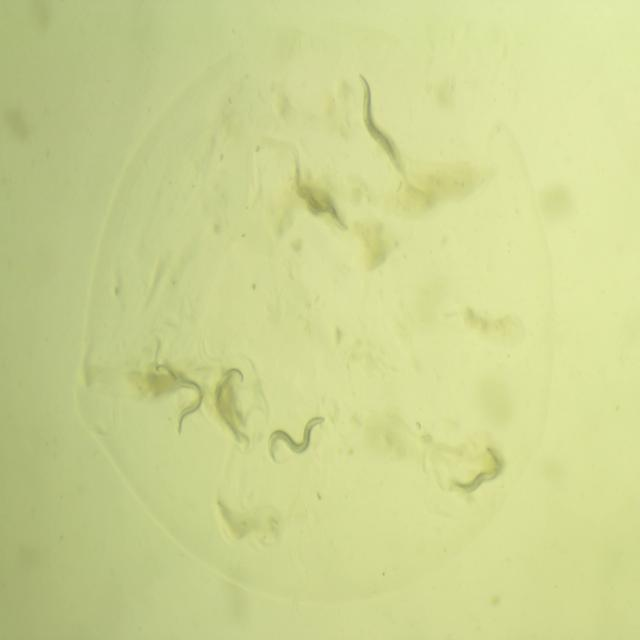worm: (352, 68, 411, 182), (142, 353, 211, 442), (288, 154, 351, 238), (262, 407, 332, 470), (446, 437, 508, 505), (210, 342, 248, 451)
